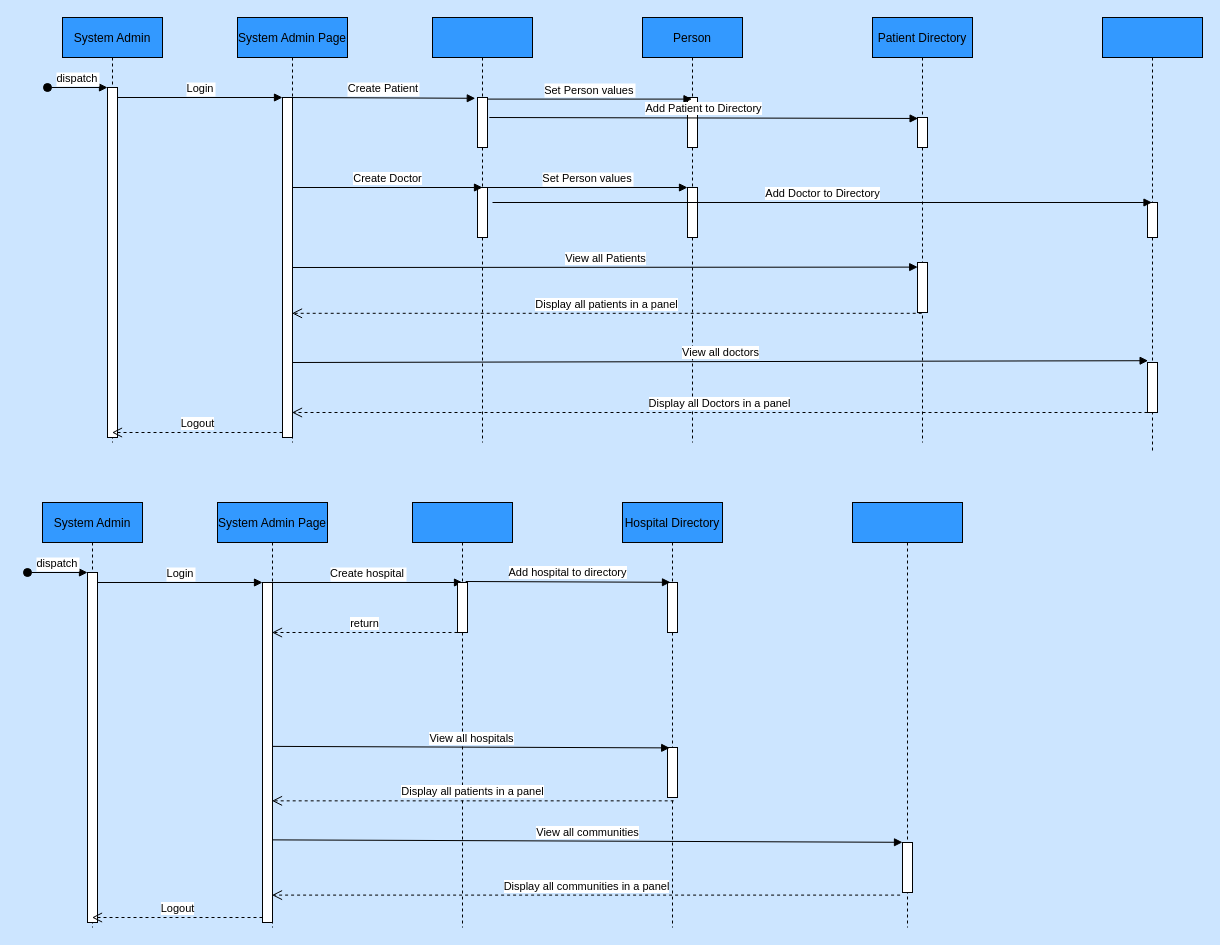
The diagram is 1220 pixels wide and 945 high, and some of its shapes have lost their labels. Each missing label, with the box of its shape:
Community Directory: (852, 502, 962, 928)
Doctor Directory: (1102, 16, 1202, 452)
Hospital: (412, 502, 512, 928)
Patient: (432, 16, 532, 442)
